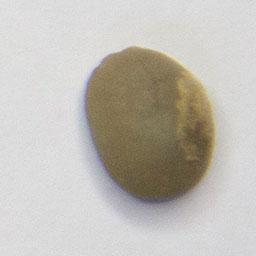premium: (81, 42, 221, 205)
